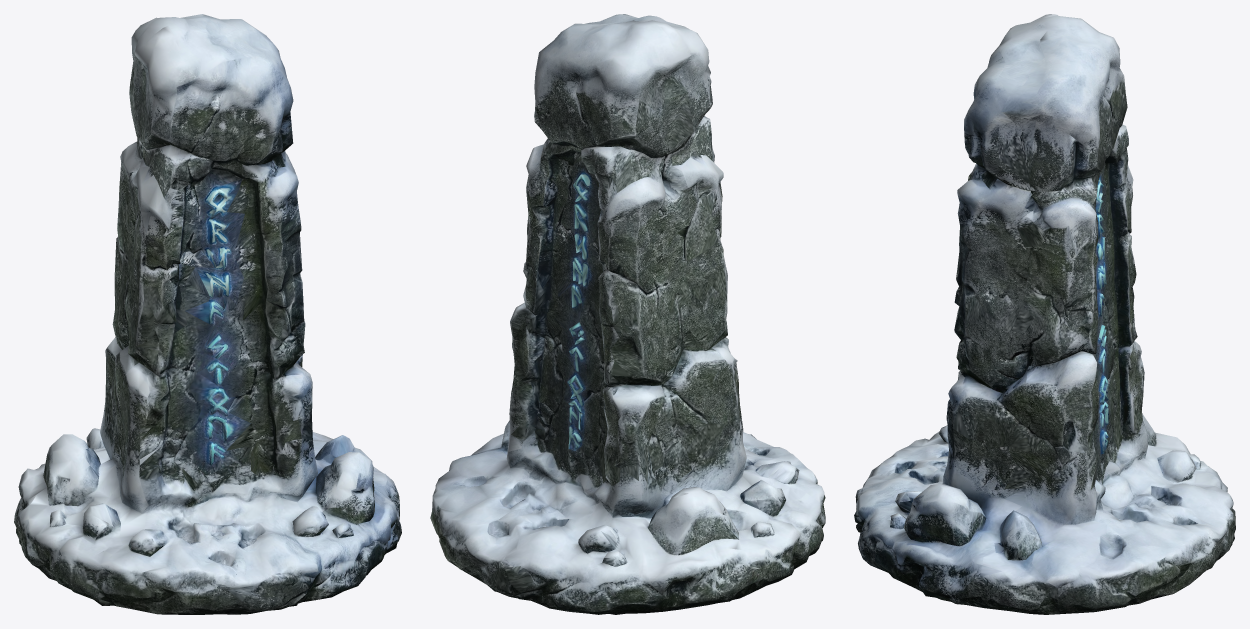
Rendered from f_rune_stone.glb.
3 renders of one model, left to right at view 1: azimuth 30°, elevation 25°; view 2: azimuth 150°, elevation 25°; view 3: azimuth 270°, elevation 25°, orthographic. The views are drawn at different scales.
Visible parts, largest first — view 1: tripo_node_8ff66062-746d-4fa2-98ae-8787f4118a15; view 2: tripo_node_8ff66062-746d-4fa2-98ae-8787f4118a15; view 3: tripo_node_8ff66062-746d-4fa2-98ae-8787f4118a15.
Boxes of the visible parts, left/top/right/bottom form: tripo_node_8ff66062-746d-4fa2-98ae-8787f4118a15: left=14, top=14, right=401, bottom=614; tripo_node_8ff66062-746d-4fa2-98ae-8787f4118a15: left=430, top=14, right=825, bottom=614; tripo_node_8ff66062-746d-4fa2-98ae-8787f4118a15: left=854, top=14, right=1235, bottom=614.
Size of the model in its own units: 0.6648 by 0.9795 by 0.6677.
1 material, 1 textured.
